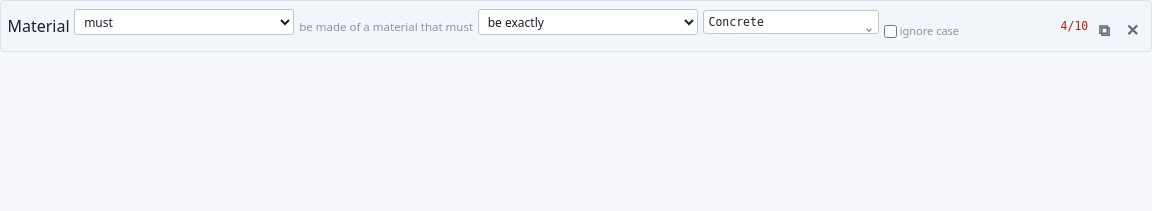
Test: MaterialRow › reports an empty enumeration, which XSD would read as accepting anything
This screenshot has width=1152, height=211.
Select "be one of" in the dropdown named "Material operator". click: coordinates (588, 22)
box: 478,9 -> 698,35
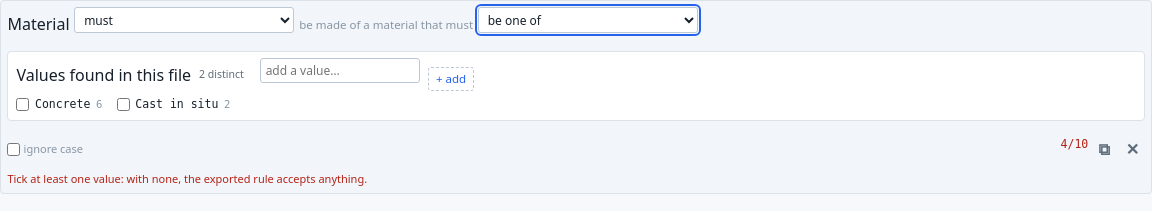
Result: the text "Tick at least one value" is shown at 7,171 -> 367,186
